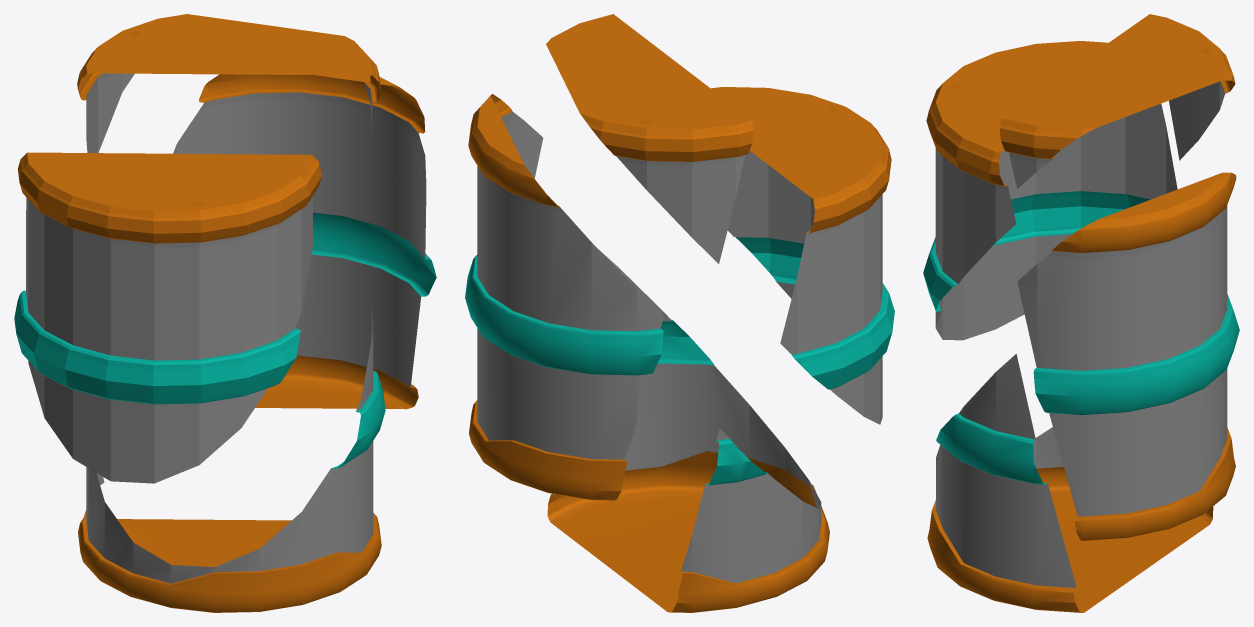
File: Barrel1_Broken.fbx
3 renders of one model, left to right at view 1: azimuth 30°, elevation 25°; view 2: azimuth 150°, elevation 25°; view 3: azimuth 270°, elevation 25°, orthographic.
Parts seen in each view (by area): view 1: polySurface4, polySurface1, polySurface2, polySurface3; view 2: polySurface1, polySurface2, polySurface4, polySurface3; view 3: polySurface1, polySurface4, polySurface2, polySurface3.
Part boxes in pixels (<box>): polySurface4: <box>14,152,321,483</box>; polySurface1: <box>173,74,436,409</box>; polySurface2: <box>78,302,385,612</box>; polySurface3: <box>77,14,381,152</box>; polySurface1: <box>465,94,663,500</box>; polySurface2: <box>547,250,829,612</box>; polySurface4: <box>711,87,894,424</box>; polySurface3: <box>546,14,753,263</box>; polySurface1: <box>1017,172,1239,540</box>; polySurface4: <box>923,41,1177,340</box>; polySurface2: <box>927,354,1213,612</box>; polySurface3: <box>999,14,1235,188</box>.
Size of the model in its own units: 248 by 294 by 174.
Materials: 3 (3 with a texture image).
